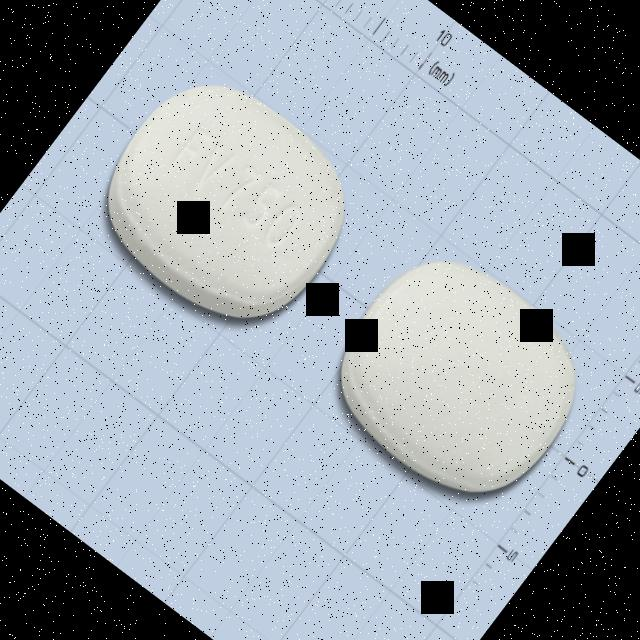Famvir: (72, 52, 380, 356)
